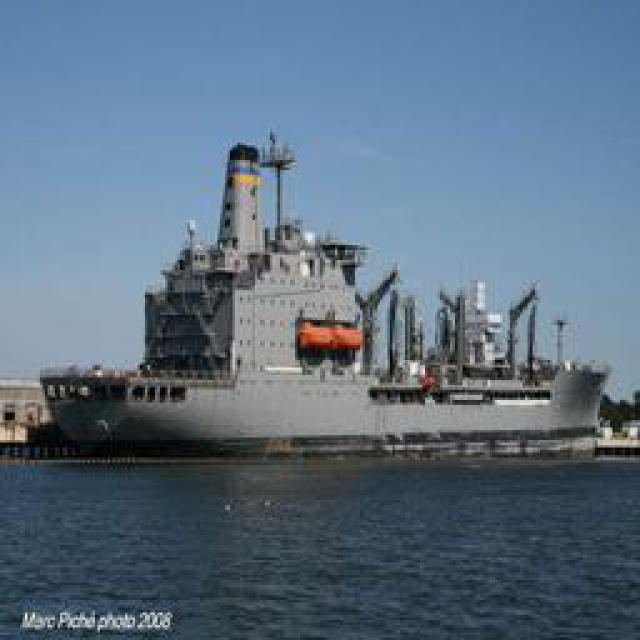Ship: (30, 127, 608, 455)
